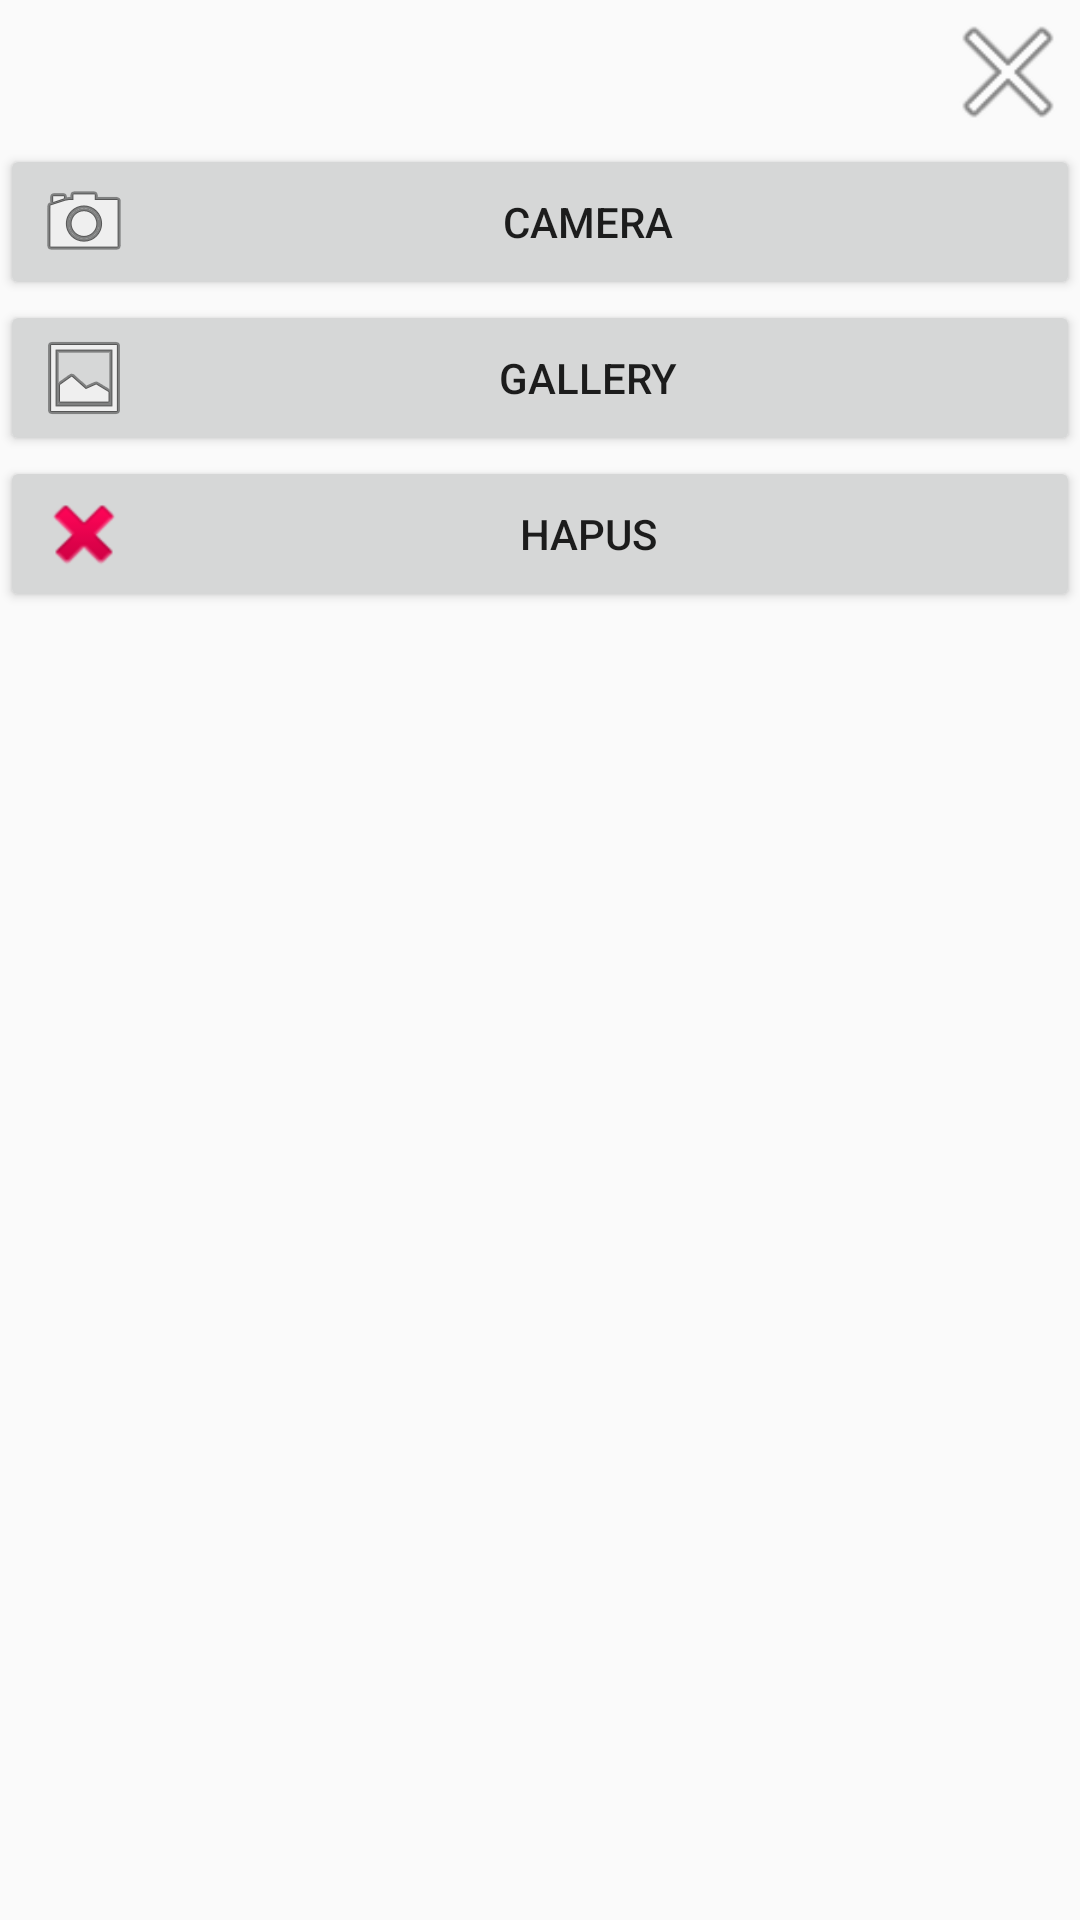

Icons on this 1080*1920 Android screen, each with its box as detection(x1, y1, x2, y2):
close clear cancel: detection(963, 27, 1053, 117)
